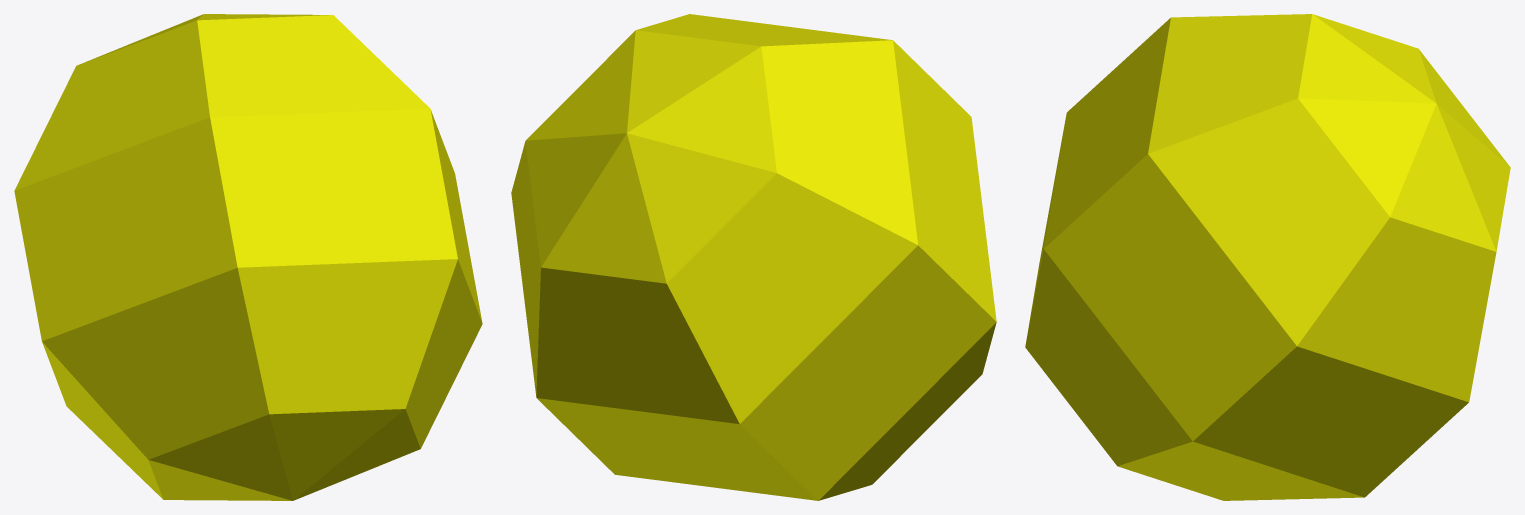
The picture shows the model from 3 angles, left to right: view 1: azimuth 30°, elevation 25°; view 2: azimuth 150°, elevation 25°; view 3: azimuth 270°, elevation 25°; orthographic projection. The views are drawn at different scales.
Visible parts, largest first — view 1: quadua; view 2: quadua; view 3: quadua.
Boxes of the visible parts, x1,y1,x2,y2 form: quadua: (14, 14, 482, 500); quadua: (511, 14, 996, 500); quadua: (1025, 14, 1510, 500).
Size of the model in its own units: 0.5846 by 0.5765 by 0.5535.
Materials: 1 (1 with a texture image).
